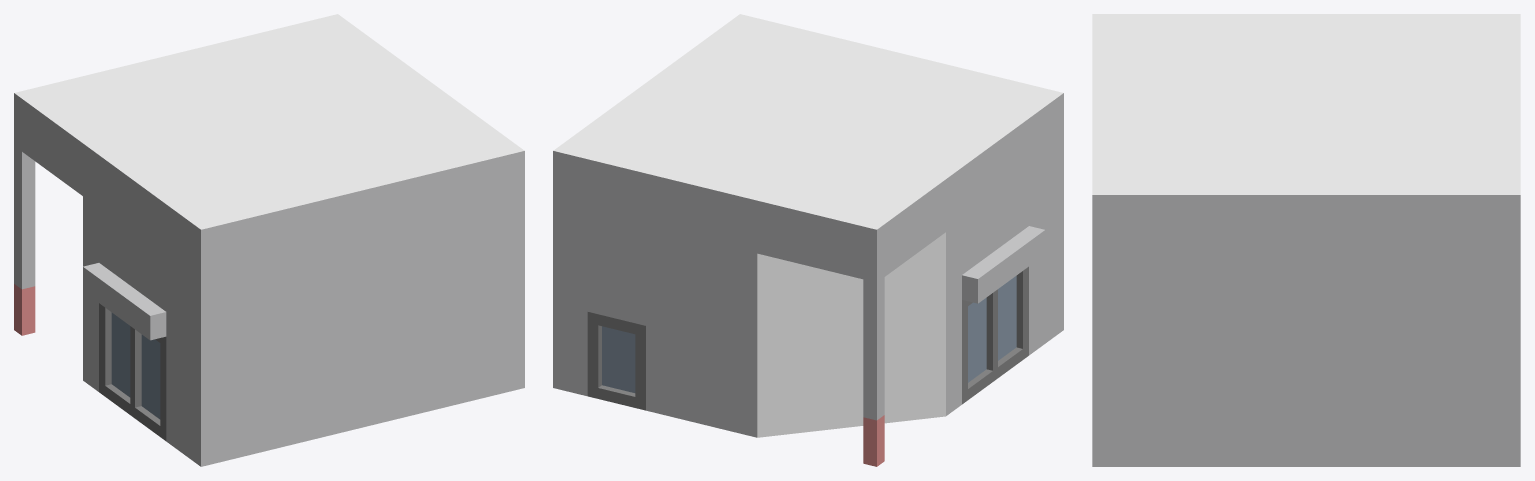
Rendered from pitsGarageCorner.gltf.
3 views of the same model, side by side, from view 1: azimuth 30°, elevation 25°; view 2: azimuth 150°, elevation 25°; view 3: azimuth 270°, elevation 25° (orthographic). The views are drawn at different scales.
Parts seen in each view (by area): view 1: pitsGarageCorner; view 2: pitsGarageCorner; view 3: pitsGarageCorner.
Boxes of the visible parts, x1=… form: pitsGarageCorner: x1=14, y1=14, x2=524, y2=466; pitsGarageCorner: x1=553, y1=14, x2=1063, y2=466; pitsGarageCorner: x1=1092, y1=14, x2=1520, y2=466.
Size of the model in its own units: 10.5 by 7 by 10.
